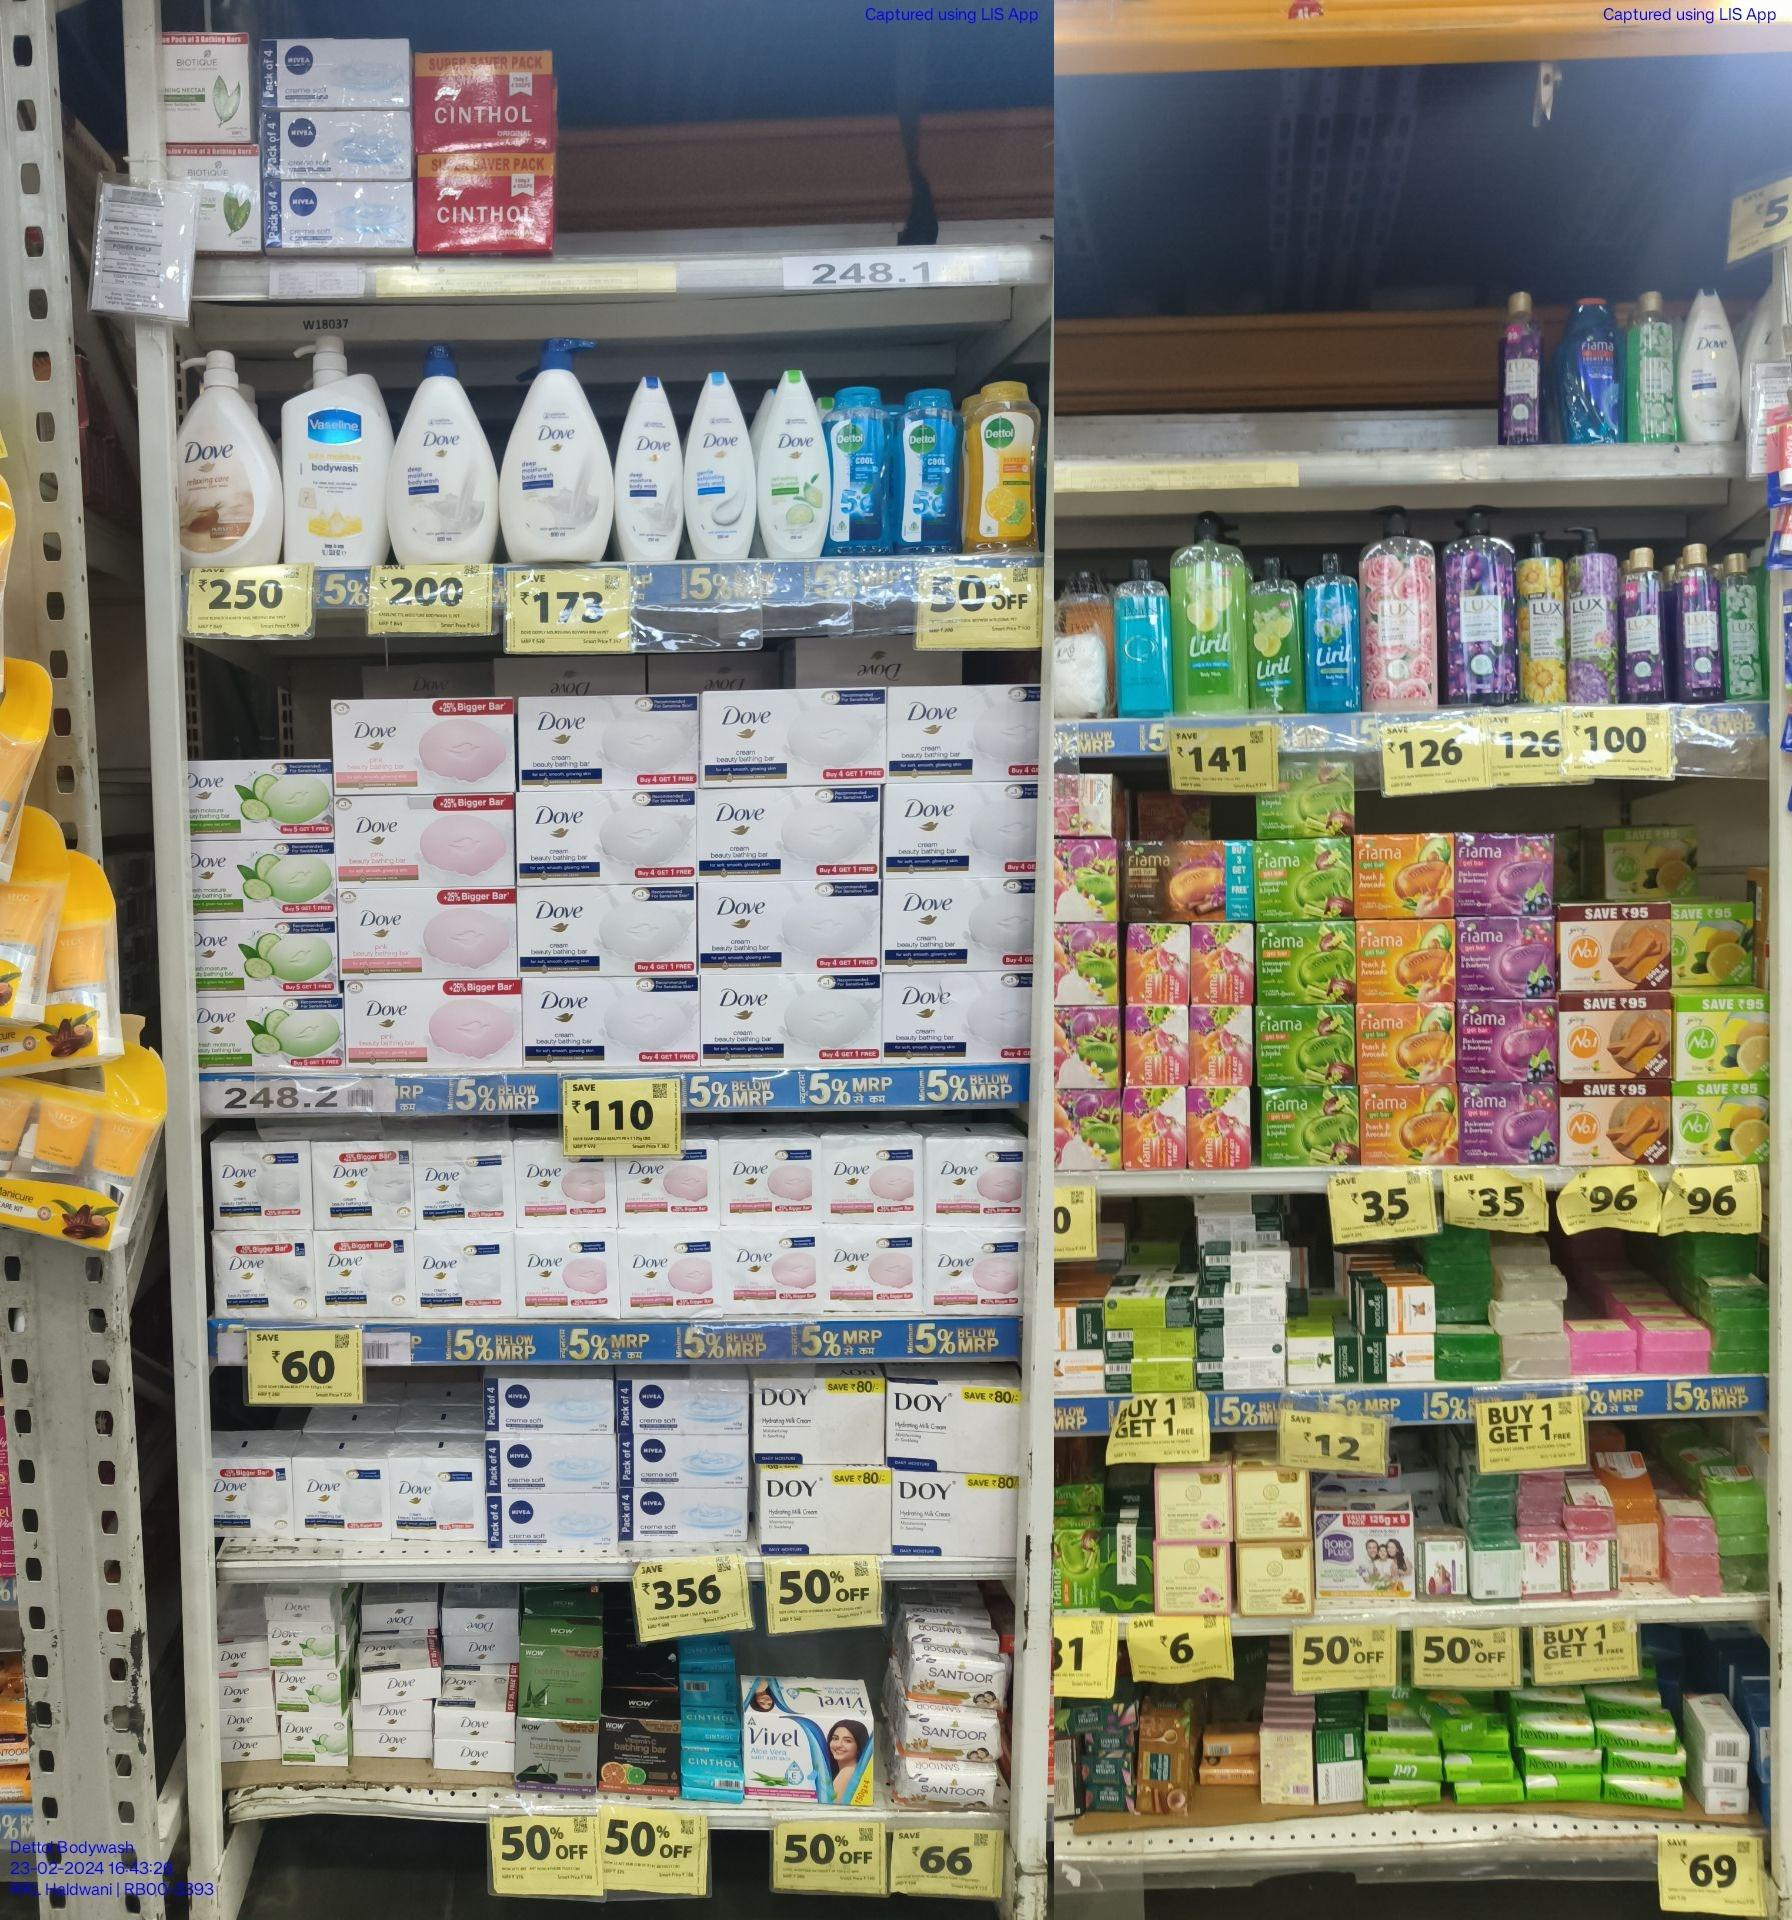Dettol_Bodywash_Cool: (899, 389, 963, 552), (834, 386, 894, 556)
Dettol_Bodywash_Refresh: (965, 381, 1039, 551)
Dove_Deep_Moisture_Body_Wash_250ML: (616, 381, 684, 561), (1683, 290, 1740, 441)
Dove_Gentle_Exfoliating_Body_Wash_250ML: (687, 376, 756, 561)
Dove_Refreshing_Body_Wash_250ML: (758, 372, 827, 559)
Liril_Cooling_Mint_Body_Wash_250ML: (1304, 554, 1364, 712)
Liril_Lime_and_Tea_Tree_Oil_Body_Wash_250ML: (1245, 557, 1305, 712)
Lux_Black_Orchid_Scent_and_Juniper_Oil_Body_Wash_245ML: (1620, 547, 1669, 702), (1676, 546, 1720, 701), (1499, 293, 1543, 446)
Lux_Body_Wash_Skin_Detox_Freesia_Scent_and_Alove_Vera_245ML: (1629, 293, 1679, 445), (1723, 552, 1765, 702)
